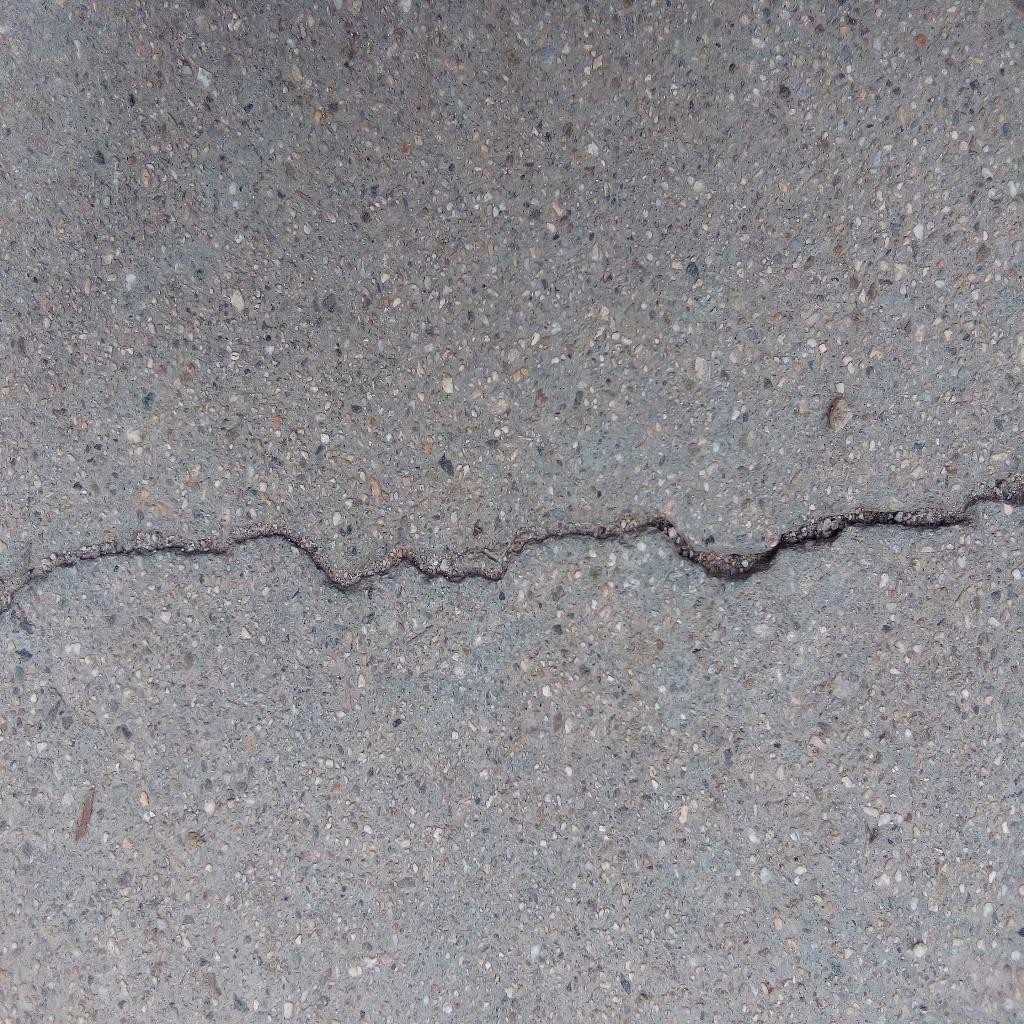Crack: (1, 481, 1024, 618)
